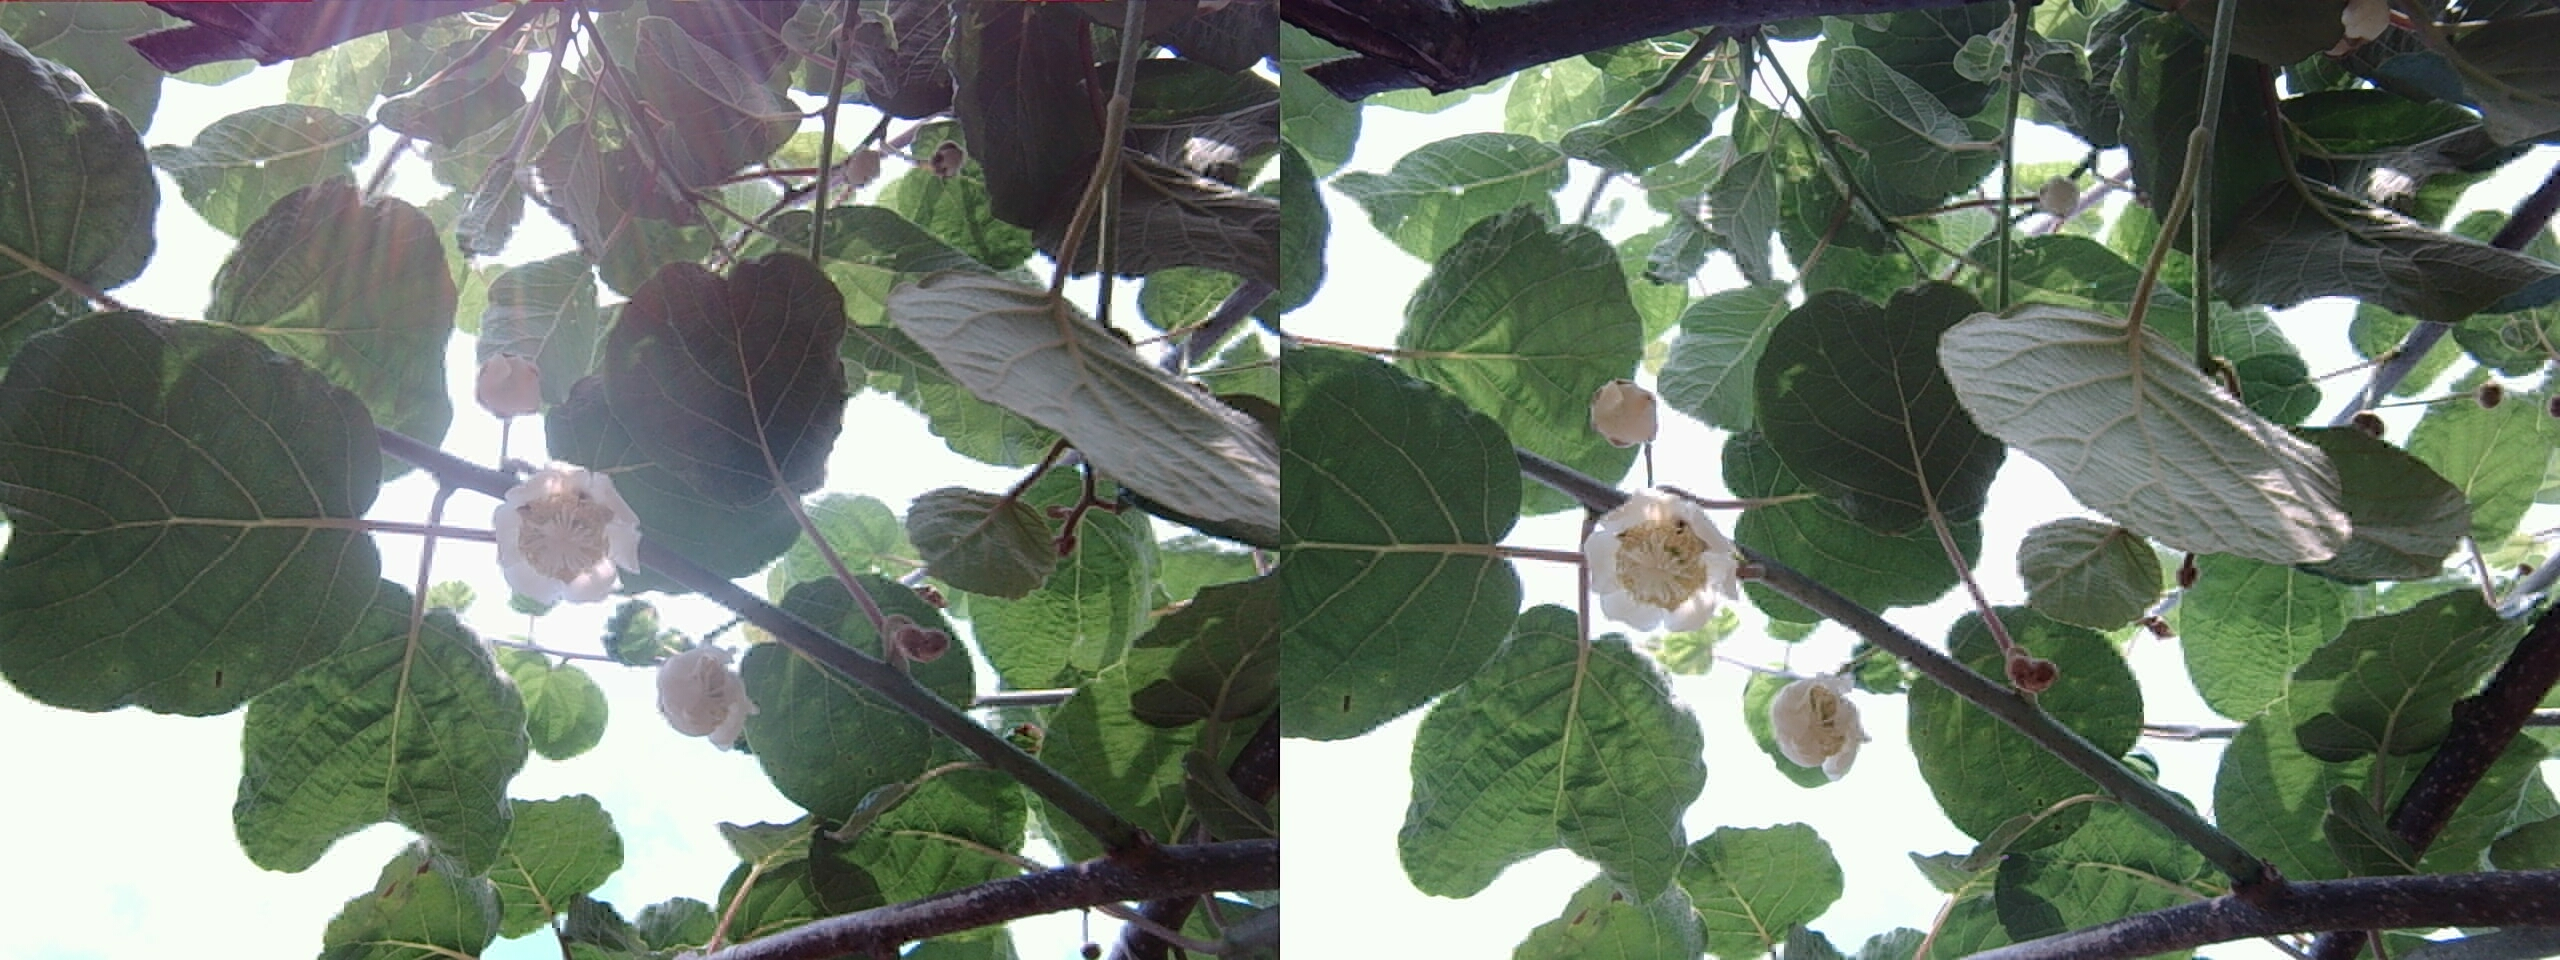flower: (1580, 483, 1744, 650), (483, 454, 643, 607), (1755, 669, 1868, 776), (655, 642, 749, 740)
